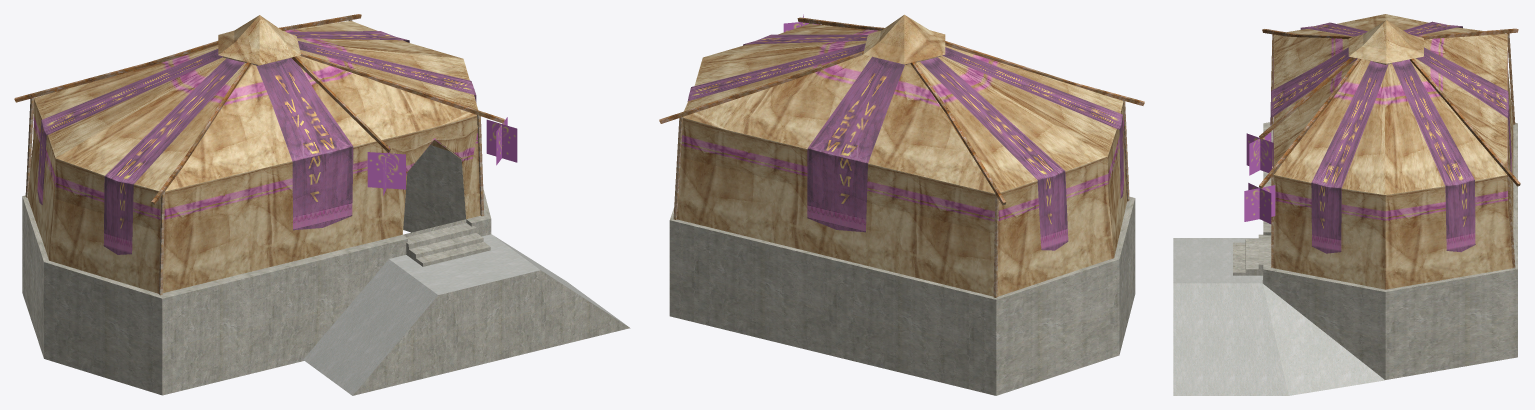
File: ply_corl_idesigner_tent_s01_r0_mesh_l0.fbx
3 views of the same model, side by side, from view 1: azimuth 30°, elevation 25°; view 2: azimuth 150°, elevation 25°; view 3: azimuth 270°, elevation 25° (orthographic). The views are drawn at different scales.
Parts seen in each view (by area): view 1: mesh_node; view 2: mesh_node; view 3: mesh_node.
Boxes of the visible parts, bbox=[...] form: mesh_node: bbox=[14, 14, 630, 395]; mesh_node: bbox=[659, 14, 1144, 395]; mesh_node: bbox=[1173, 14, 1520, 395].
Bounding box in the file's own units: 17.22 × 10.19 × 12.12.
